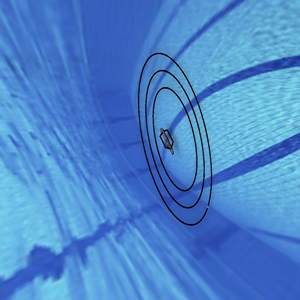circle: (117, 42, 249, 247)
submarine: (156, 120, 180, 163)
